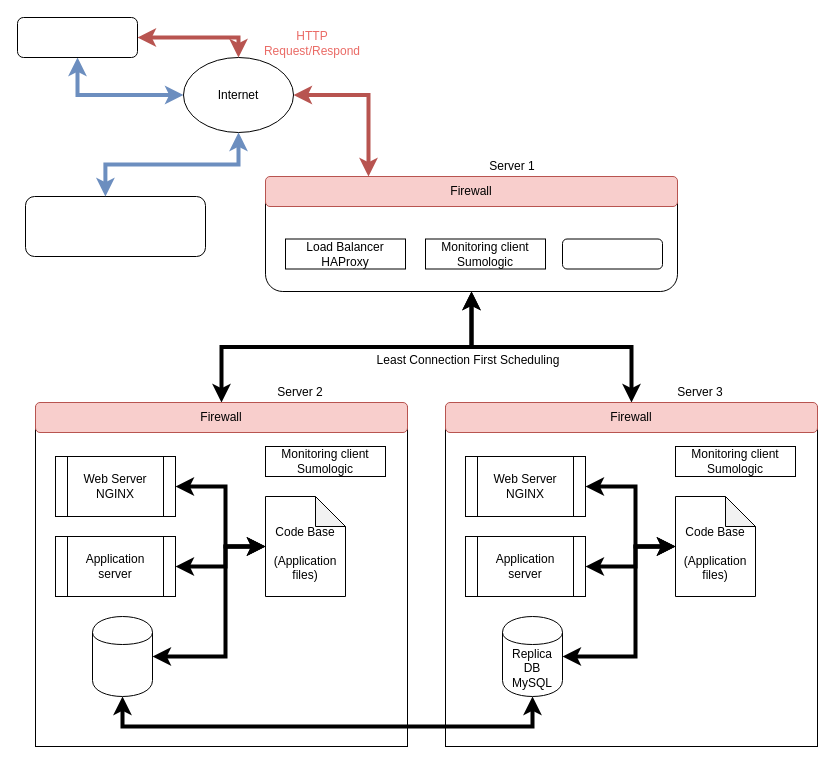
Some shapes in this 835 by 764 pixel diagram are drawn without their labels. The shapes that lost their labels are listed below. From the top down, each one's centre as x and y in pixels, then its label:
point (77, 37): Web Browser www.foobar.com
point (115, 226): DNS "www.foobar.com" = IP(8.8.8.8)
point (612, 253): SSL Certificate
point (122, 656): Primary DB MySQL
